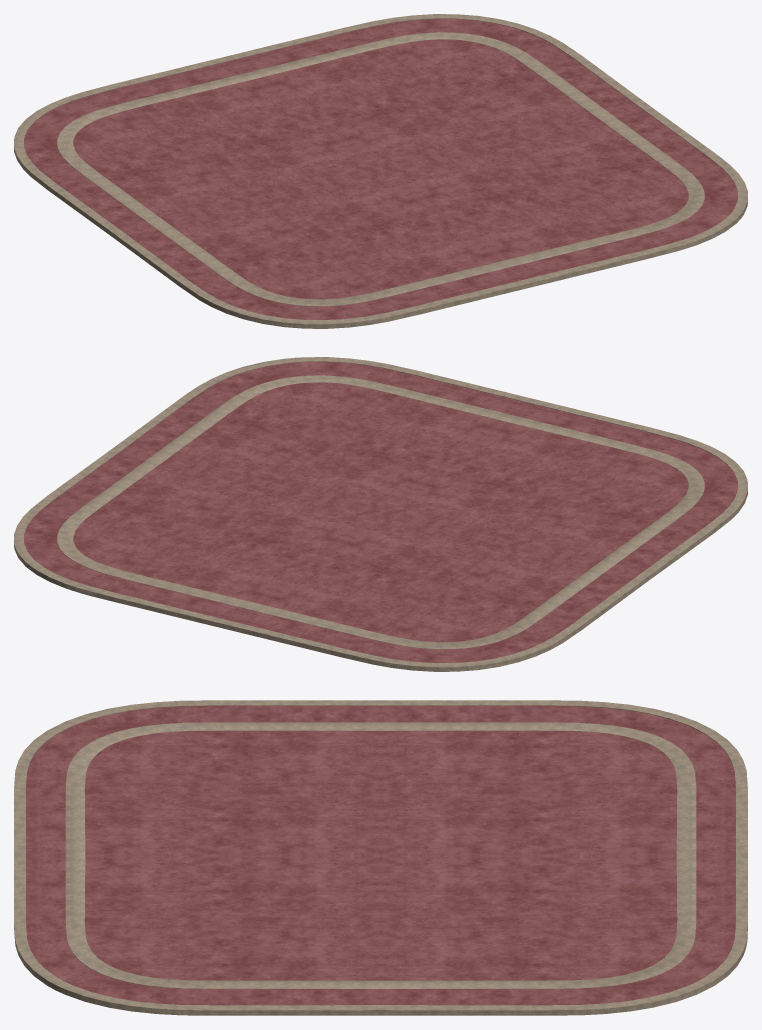
The model's file is ParkFloor.fbx.
3 views of the same model, one above another, from view 1: azimuth 30°, elevation 25°; view 2: azimuth 150°, elevation 25°; view 3: azimuth 270°, elevation 25° (orthographic). The views are drawn at different scales.
Visible parts, largest first — view 1: ParkFootPath; view 2: ParkFootPath; view 3: ParkFootPath.
Boxes of the visible parts, bbox=[...] form: ParkFootPath: bbox=[14, 14, 747, 328]; ParkFootPath: bbox=[14, 357, 747, 671]; ParkFootPath: bbox=[14, 700, 747, 1015].
Bounding box in the file's own units: 2128 × 18.2 × 2128.
